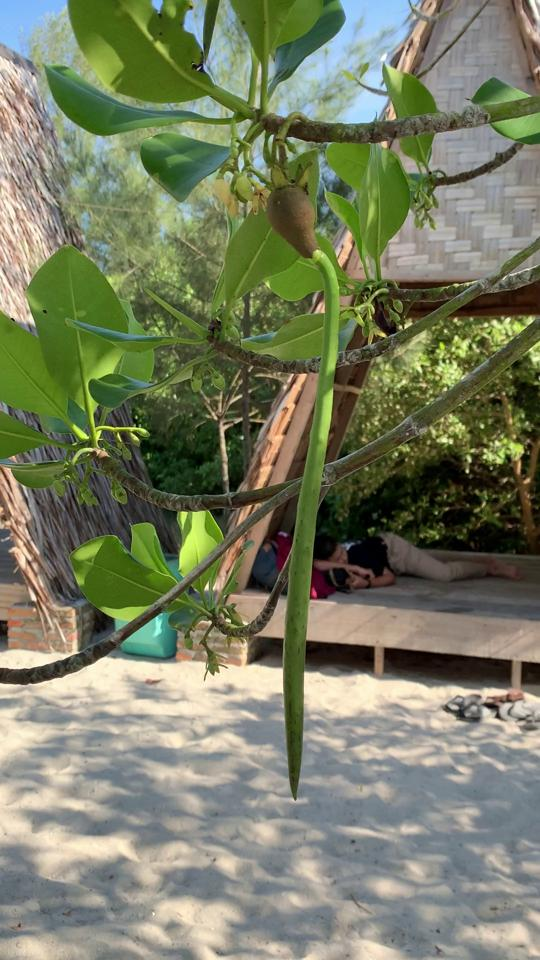setengah matang: (250, 159, 345, 801)
